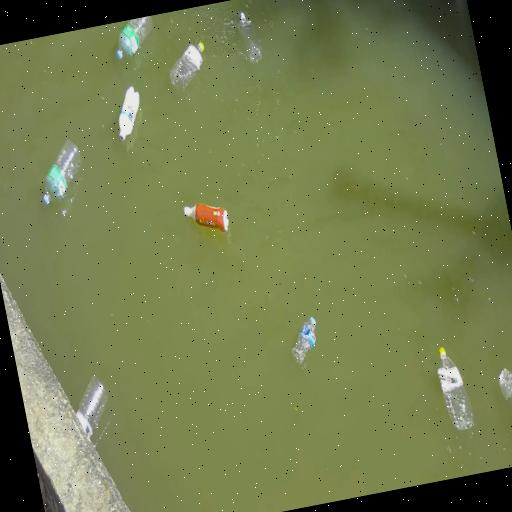plastic: (436, 346, 475, 432), (42, 139, 80, 204), (76, 376, 106, 438), (169, 41, 204, 90), (116, 16, 152, 59), (237, 11, 261, 64), (183, 204, 228, 232), (291, 317, 316, 366), (118, 86, 139, 141), (498, 369, 511, 399)
